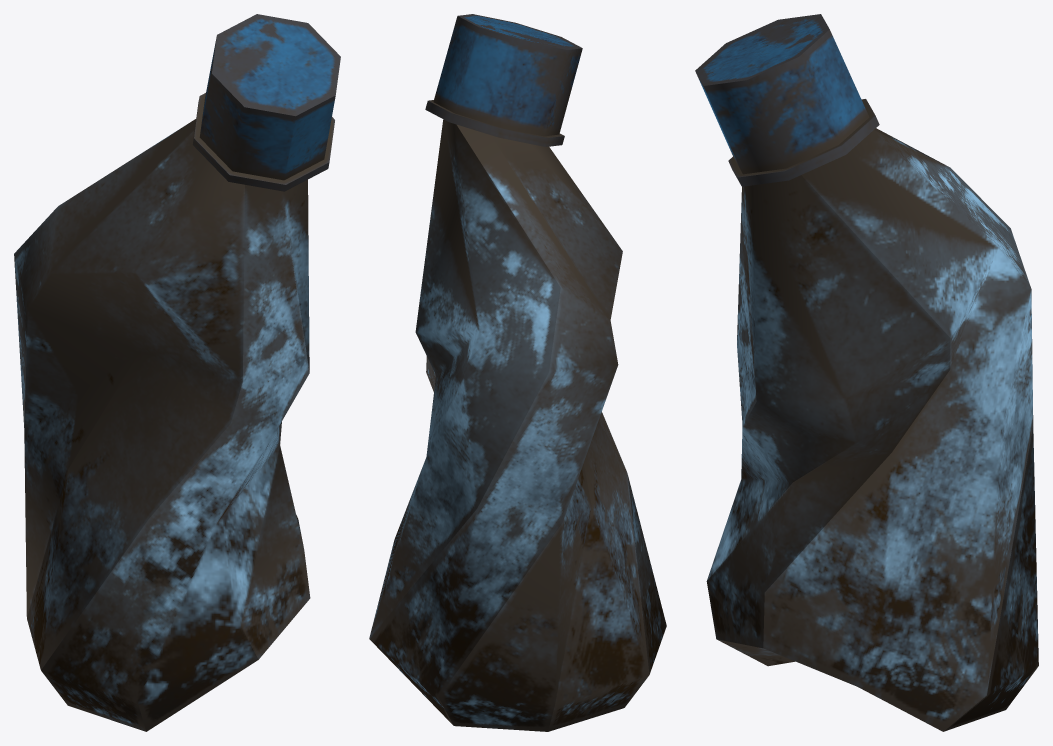
Rendered from dirty_Plastic_Bottles1.dae.
3 views of the same model, side by side, from view 1: azimuth 30°, elevation 25°; view 2: azimuth 150°, elevation 25°; view 3: azimuth 270°, elevation 25° (orthographic). The views are drawn at different scales.
Visible parts, largest first — view 1: Plastic_Bottle_02_GEO; view 2: Plastic_Bottle_02_GEO; view 3: Plastic_Bottle_02_GEO.
Part boxes in pixels (x1,y1,x2,y2): Plastic_Bottle_02_GEO: (14,14,340,731); Plastic_Bottle_02_GEO: (369,14,666,731); Plastic_Bottle_02_GEO: (695,14,1038,731).
Bounding box in the file's own units: 0.102 × 0.1078 × 0.2456.
Materials: 1 (1 with a texture image).
